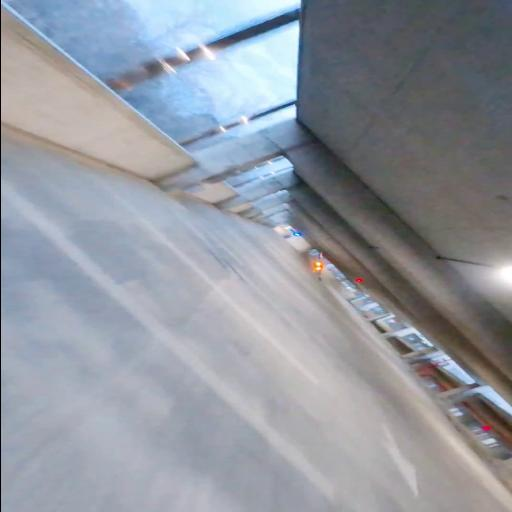uav: (304, 251, 328, 282)
